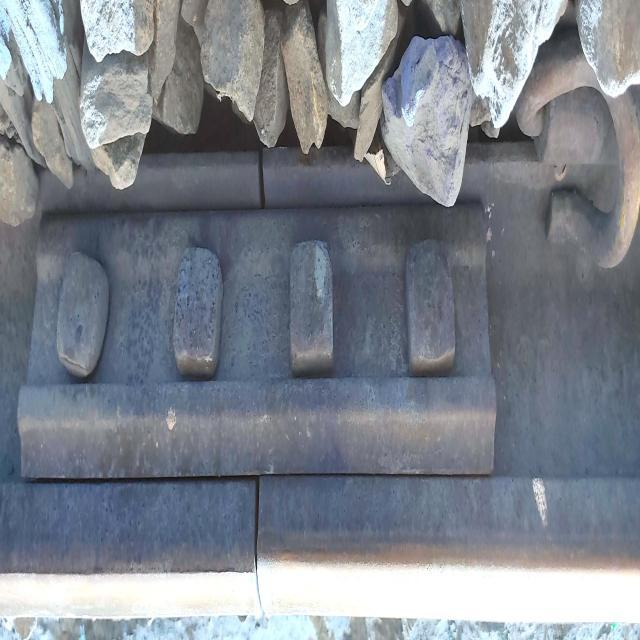Good Fasteners: (510, 18, 640, 305)
Good Joint: (14, 194, 491, 468)
